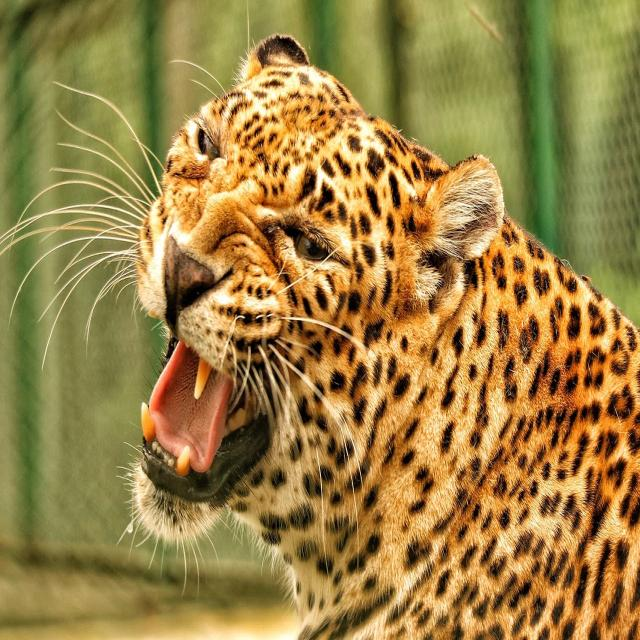Leopard: (135, 35, 640, 640)
